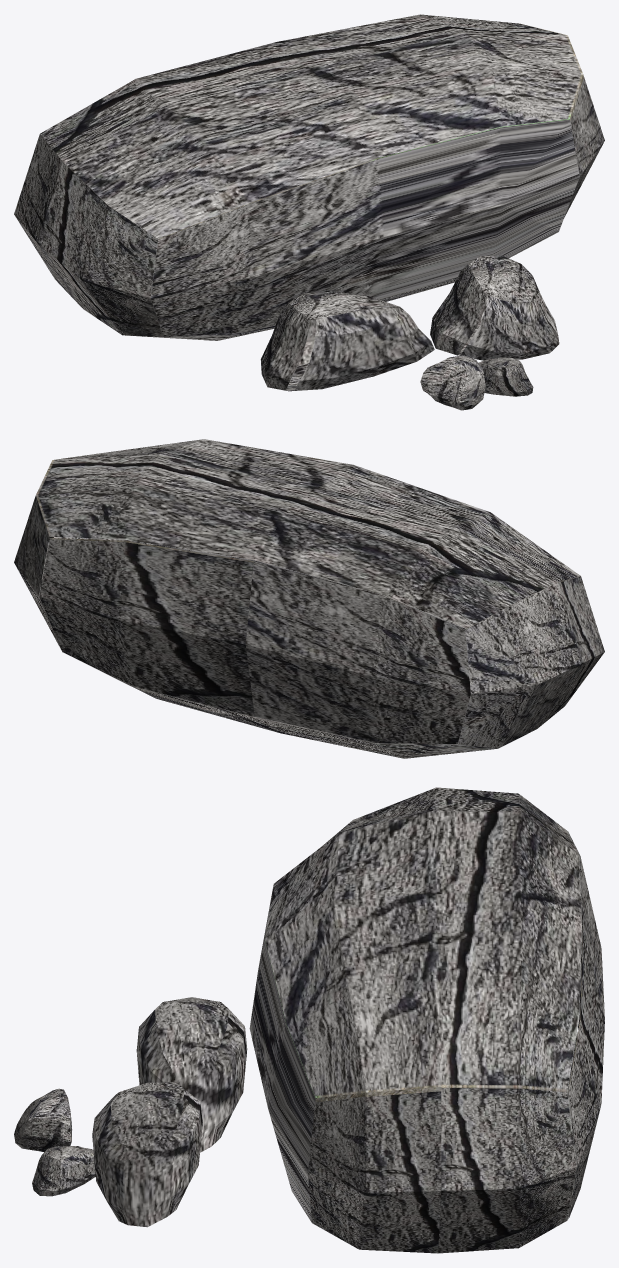
Rendered from rock3.obj.
The picture shows the model from 3 angles, top to bottom: view 1: azimuth 30°, elevation 25°; view 2: azimuth 150°, elevation 25°; view 3: azimuth 270°, elevation 25°; orthographic projection. The views are drawn at different scales.
Visible parts, largest first — view 1: Cube, Cube.001, Cube.002, Cube.003, Cube.004; view 2: Cube; view 3: Cube, Cube.002, Cube.001, Cube.003, Cube.004.
Boxes of the visible parts, x1,y1,x2,y2 form: Cube: [14, 14, 604, 340]; Cube.001: [260, 290, 434, 391]; Cube.002: [430, 255, 559, 360]; Cube.003: [420, 355, 485, 410]; Cube.004: [478, 357, 533, 396]; Cube: [14, 439, 604, 758]; Cube: [249, 787, 604, 1253]; Cube.002: [92, 1082, 202, 1227]; Cube.001: [136, 997, 247, 1152]; Cube.003: [14, 1088, 72, 1151]; Cube.004: [32, 1146, 95, 1196].
Bounding box in the file's own units: 4.4 × 1.72 × 3.36.
2 materials, 2 textured.
